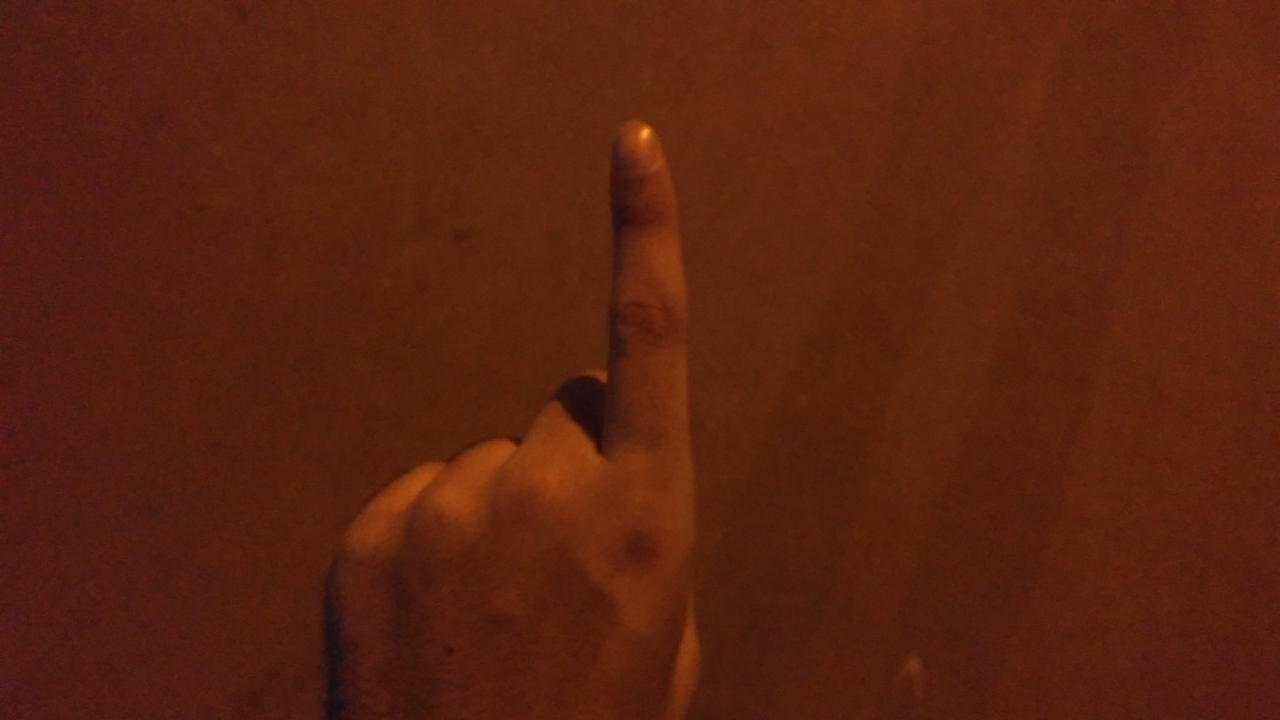fingertip: (612, 114, 670, 166)
